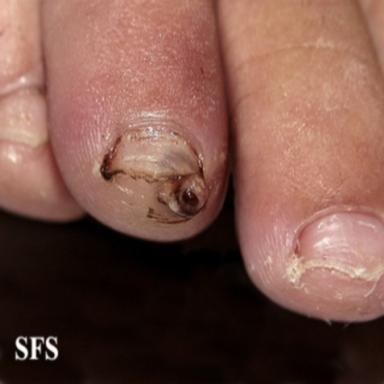Tungiasis: (146, 174, 213, 227)
